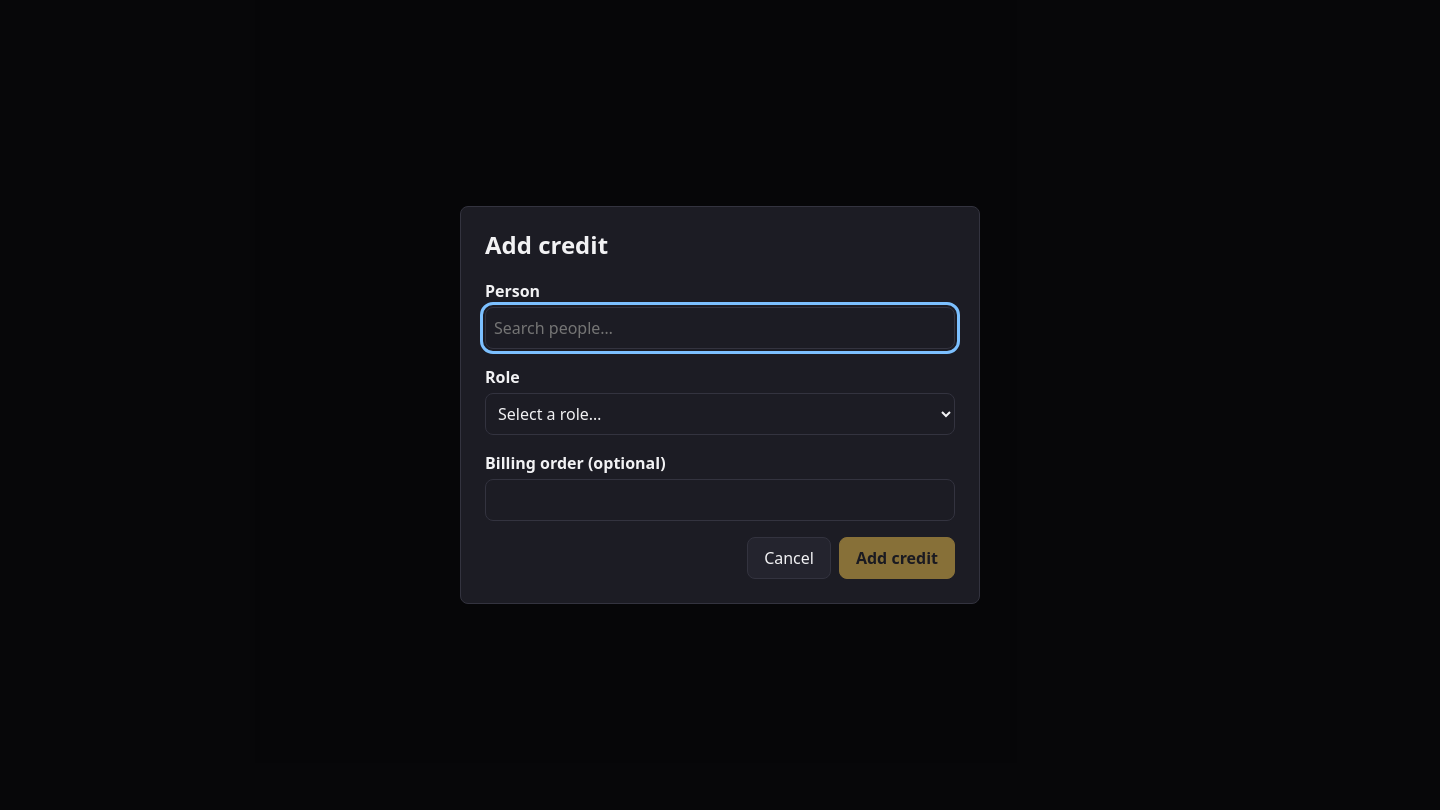
Test case: CreditDialog › requires a character name for CAST roles before enabling submit
Expected: the button "Add credit" is disabled, [839, 537, 955, 579]
// pick a person via autocomplete
Type "Jane" into the dropdown labelled "Person". click: (720, 328)
box: [485, 307, 955, 349]
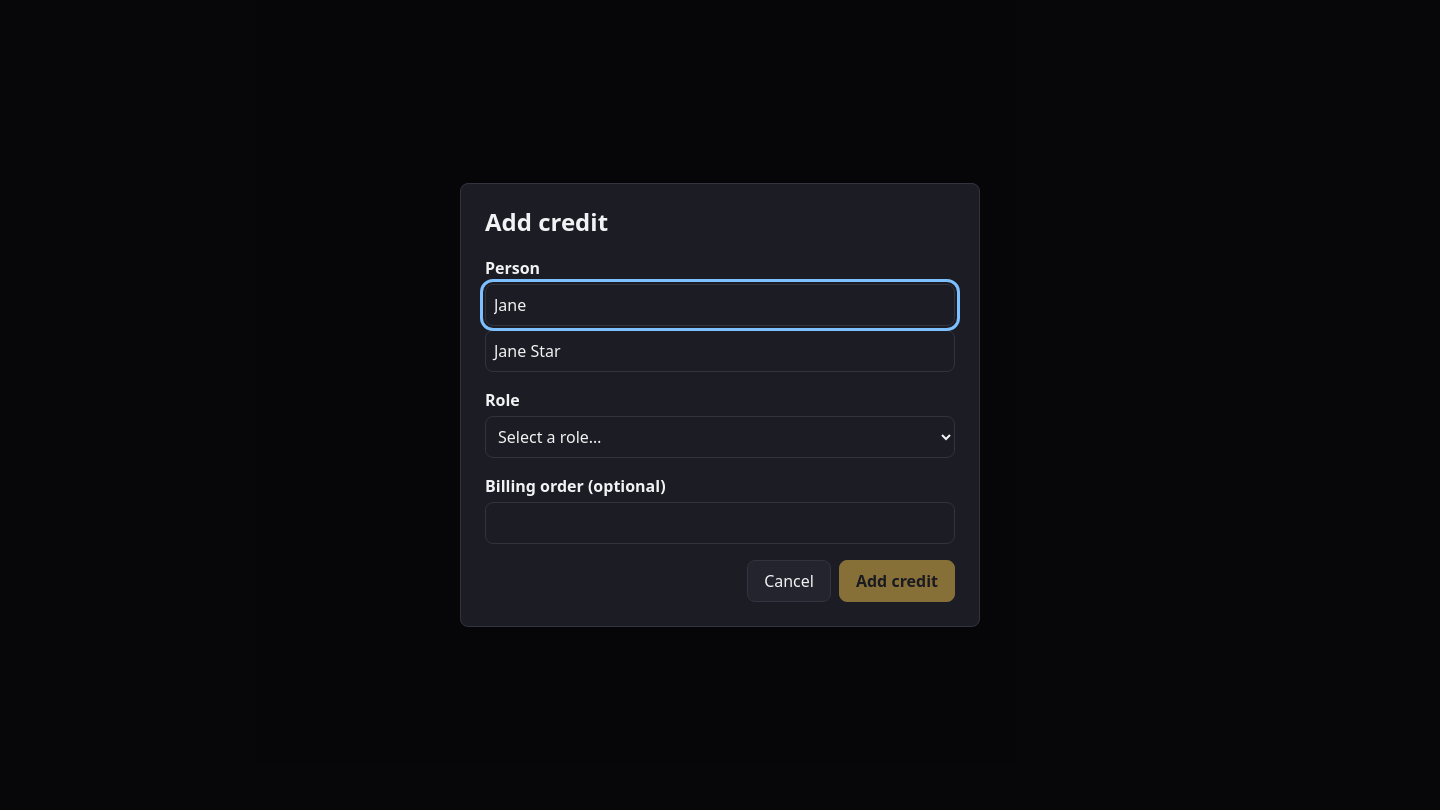
Click the option "Jane Star". click: (527, 351)
box: [494, 340, 561, 362]
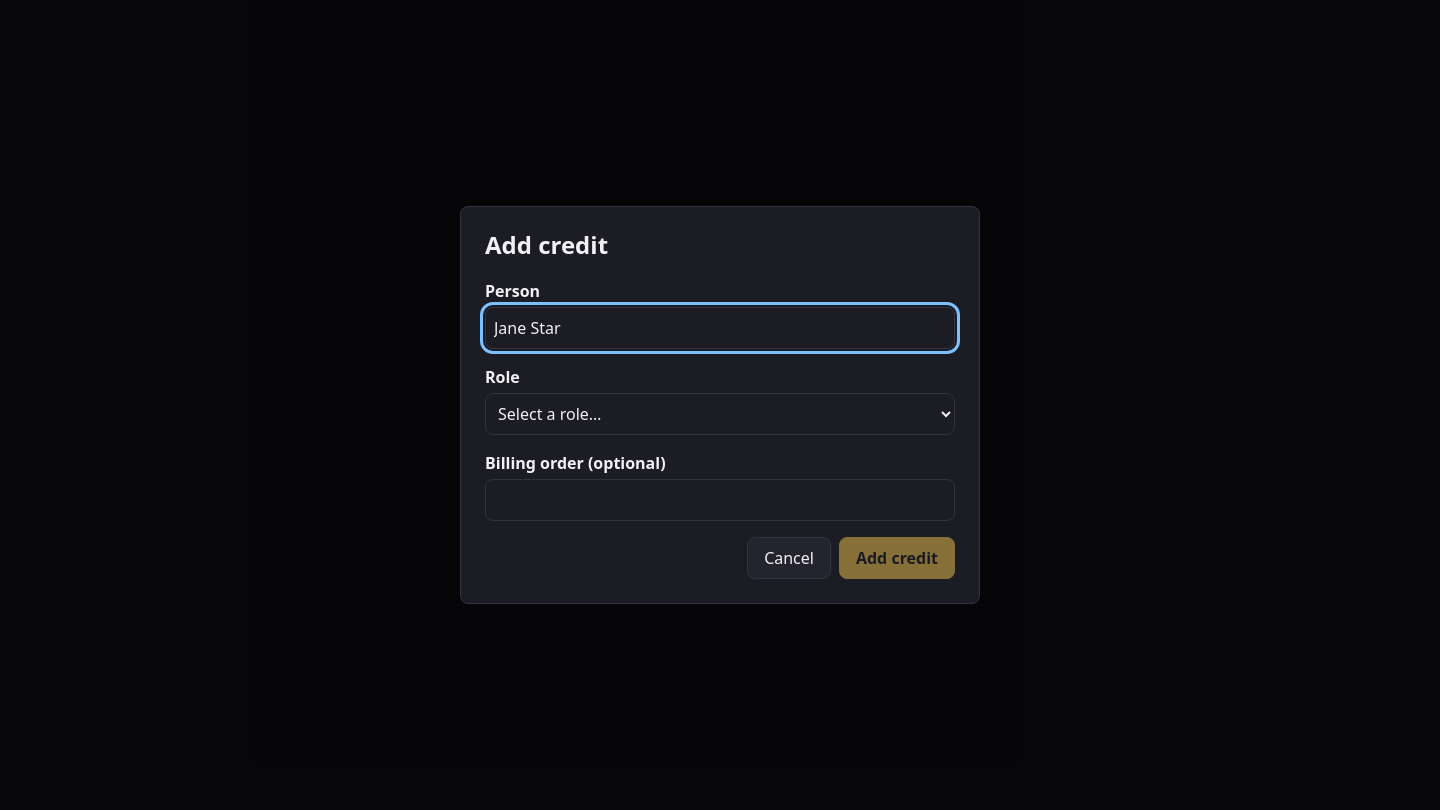
Select "Actor (CAST)" in the dropdown labelled "Role". click: (720, 414)
box: [485, 393, 955, 435]
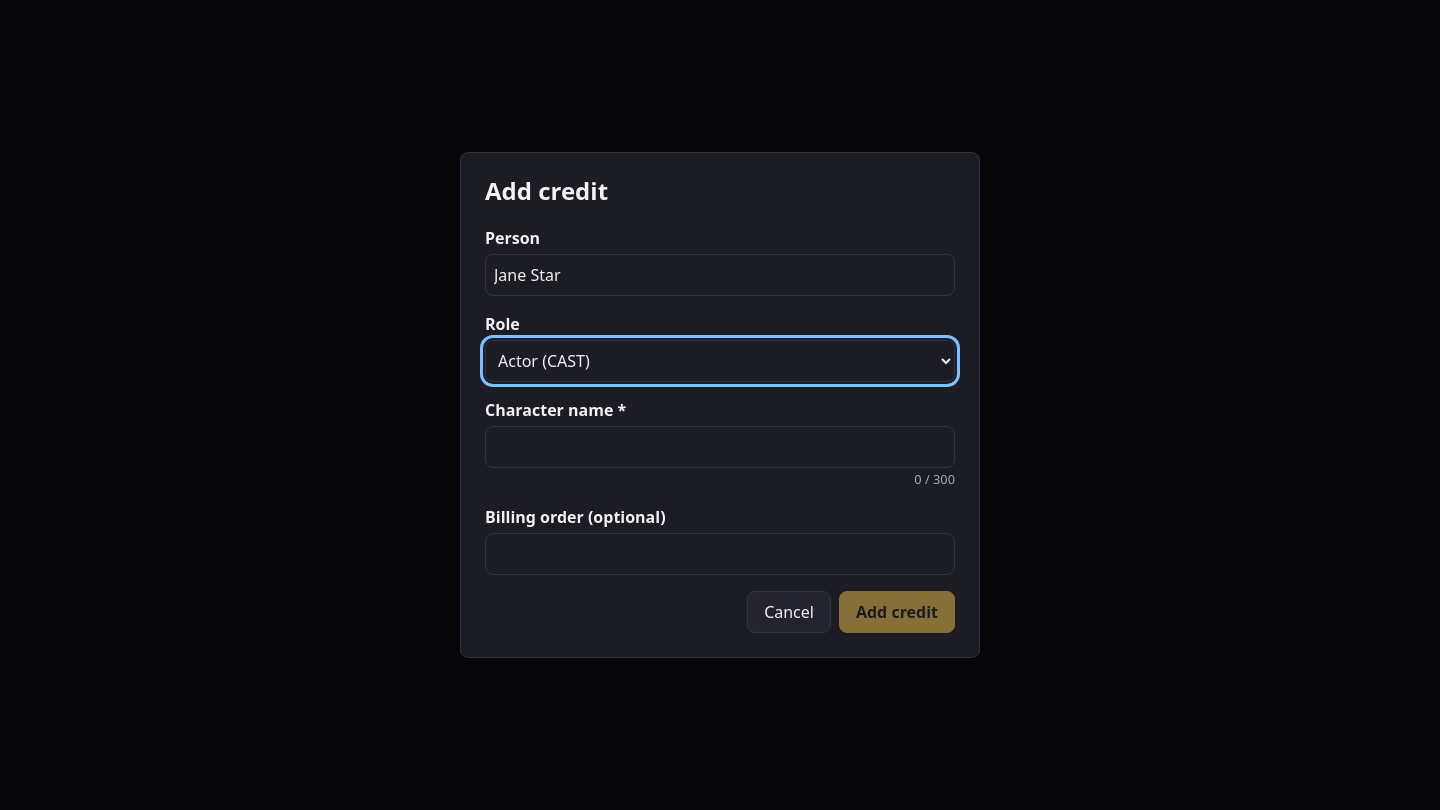
Expected: the button "Add credit" is disabled, [839, 591, 955, 633]
Result: the field labelled "Character name *" is shown
Type "Cobb" into the field labelled "Character name *". click: (720, 447)
box: [485, 426, 955, 468]
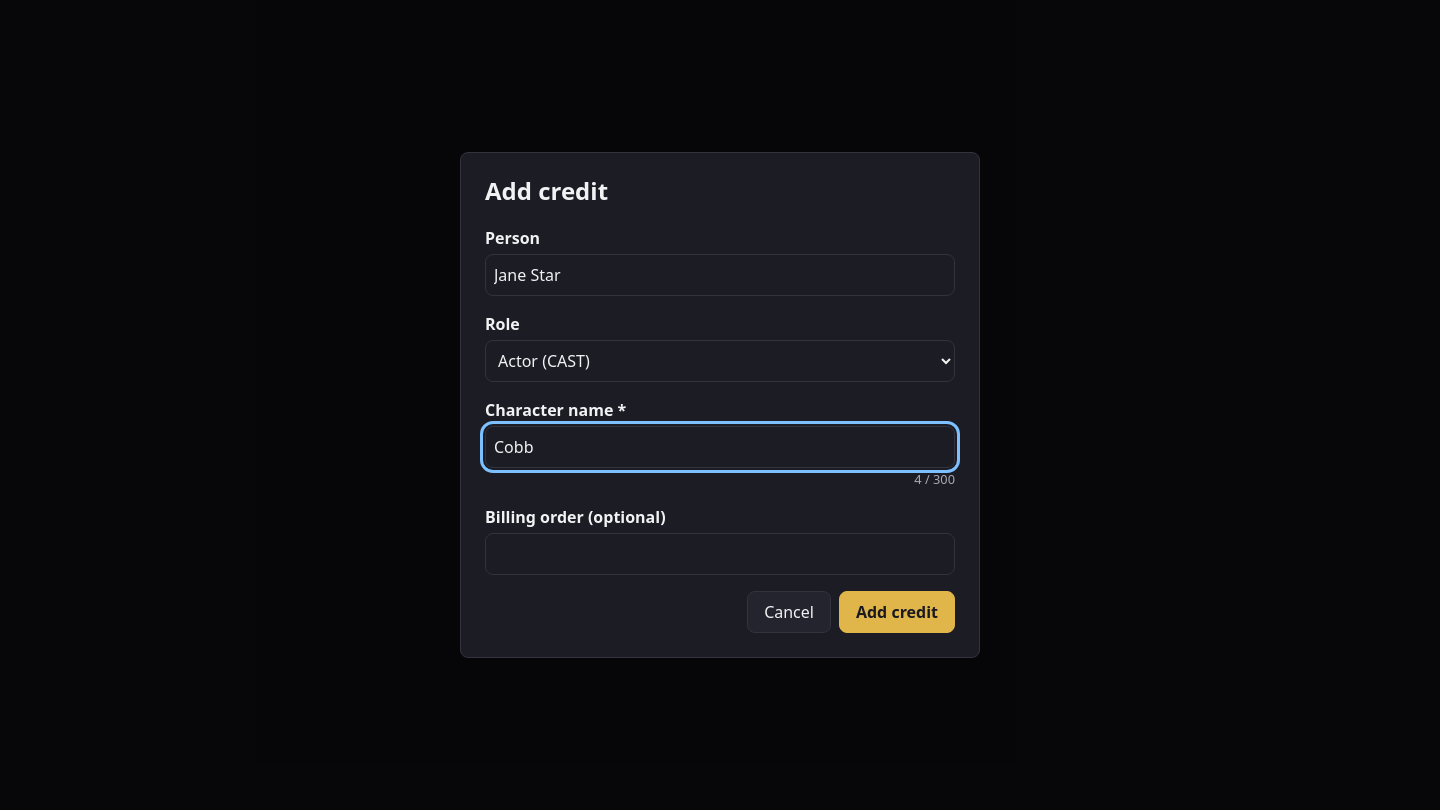
Result: the button "Add credit" is enabled at [839, 591, 955, 633]
